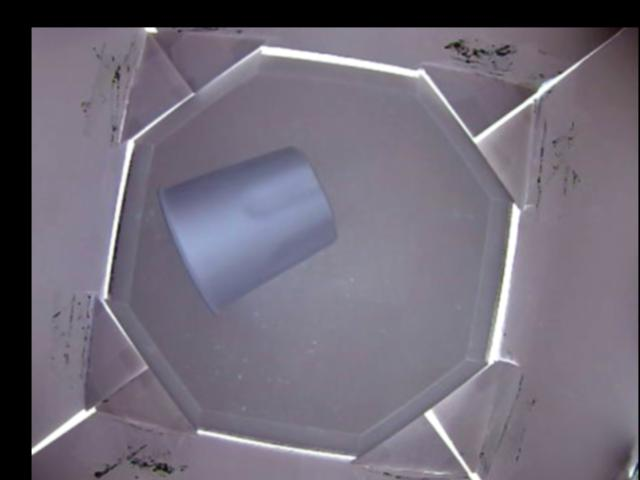Cup: (158, 145, 338, 312)
